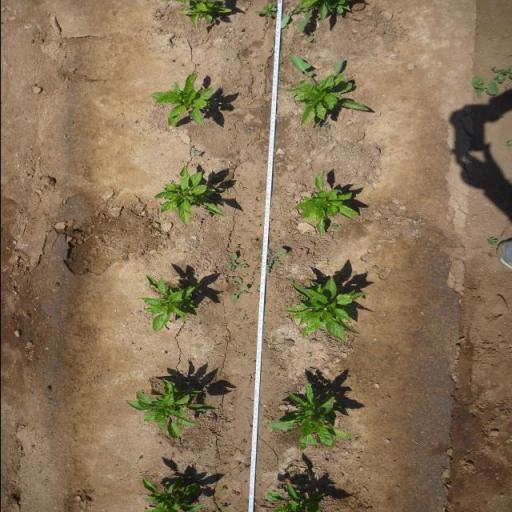plant: (123, 376, 222, 440), (262, 382, 352, 452), (278, 276, 370, 344), (155, 164, 225, 223), (136, 275, 203, 331), (292, 172, 359, 222), (150, 72, 212, 126), (283, 73, 342, 122), (140, 475, 205, 512), (265, 478, 329, 512), (176, 0, 234, 29), (297, 0, 352, 18)
weed: (280, 5, 318, 41), (470, 76, 499, 98), (266, 247, 288, 275), (224, 250, 250, 272), (230, 277, 248, 303), (252, 1, 277, 18), (490, 64, 512, 82), (207, 98, 230, 112), (320, 120, 332, 130), (486, 236, 498, 246), (230, 488, 241, 498), (257, 90, 270, 98), (330, 222, 342, 230), (326, 229, 335, 237), (224, 186, 232, 195), (239, 314, 249, 321), (194, 150, 202, 158), (504, 139, 512, 147), (219, 505, 229, 511), (228, 277, 235, 285), (238, 440, 247, 446), (188, 145, 194, 153), (218, 486, 226, 492), (263, 310, 271, 316), (307, 366, 313, 373), (232, 244, 240, 249), (168, 58, 176, 63), (268, 46, 274, 52), (243, 464, 249, 470), (238, 26, 243, 32), (254, 64, 264, 67), (179, 62, 185, 67), (257, 68, 262, 72), (256, 224, 260, 228), (268, 218, 272, 222)
